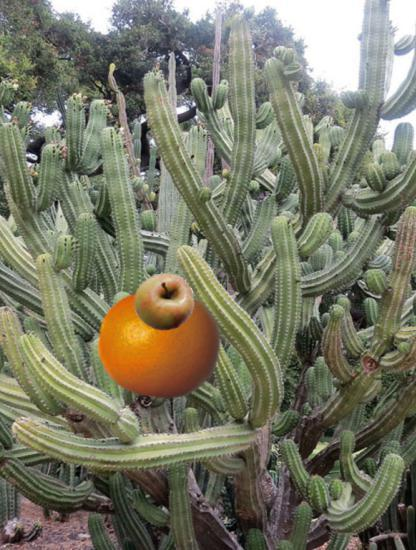Apple: (134, 272, 195, 333)
Grapefruit: (96, 281, 222, 407)
